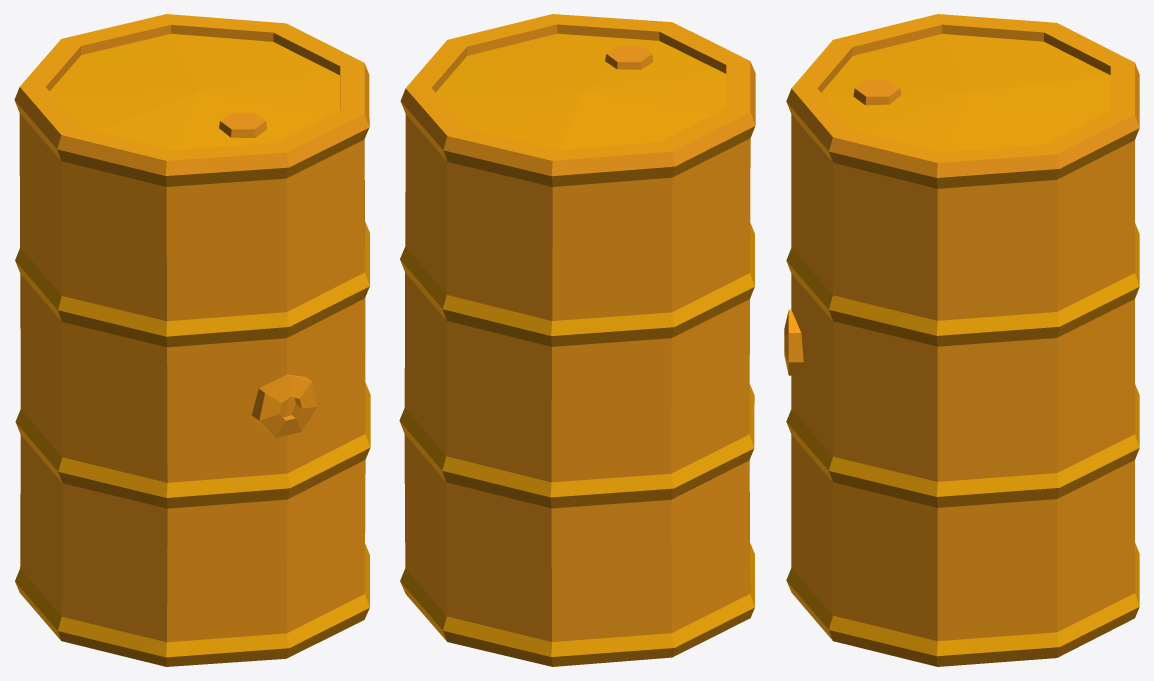
Rendered from barrel.fbx.
3 views of the same model, side by side, from view 1: azimuth 30°, elevation 25°; view 2: azimuth 150°, elevation 25°; view 3: azimuth 270°, elevation 25° (orthographic).
Parts seen in each view (by area): view 1: barrel; view 2: barrel; view 3: barrel.
Part boxes in pixels (x1=…): barrel: x1=14, y1=14, x2=370, y2=666; barrel: x1=399, y1=14, x2=755, y2=666; barrel: x1=784, y1=14, x2=1139, y2=666.
Size of the model in its own units: 68.44 by 106 by 67.57.
